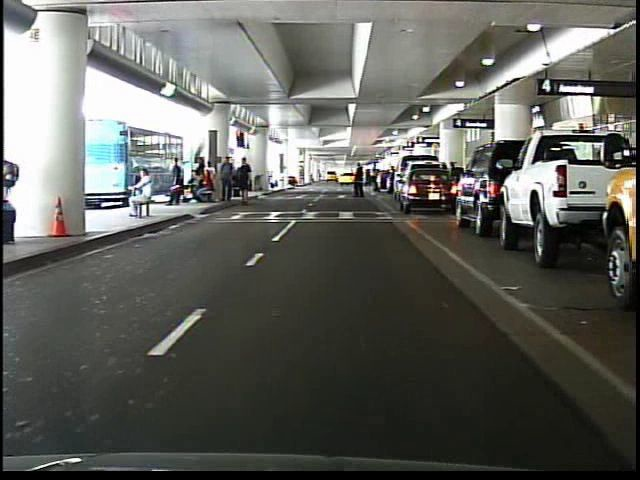person: (119, 167, 158, 223), (164, 156, 185, 210), (351, 160, 371, 204), (368, 160, 384, 197)
